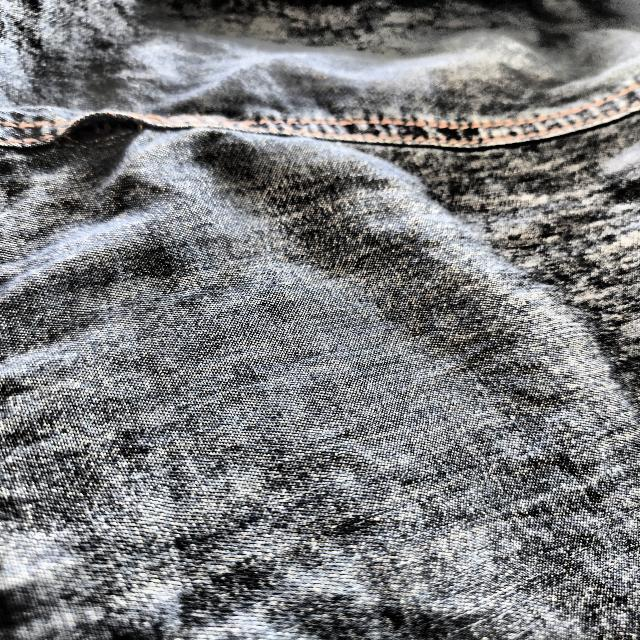seam: (39, 110, 161, 160)
